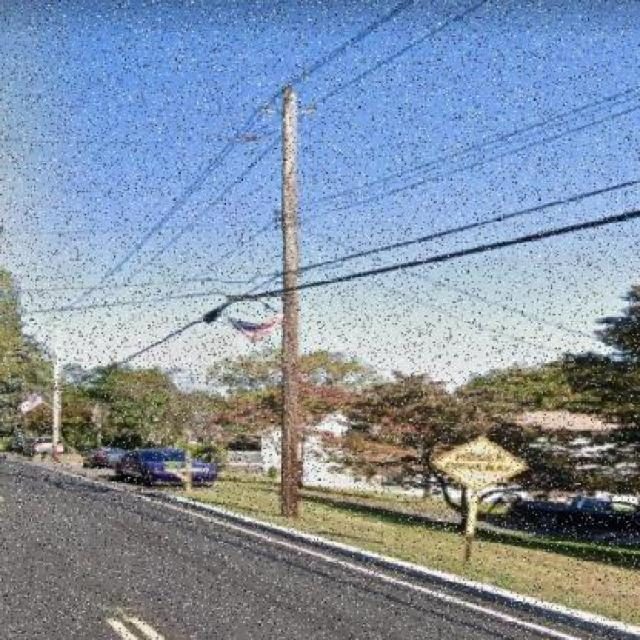pole: (213, 56, 367, 519)
